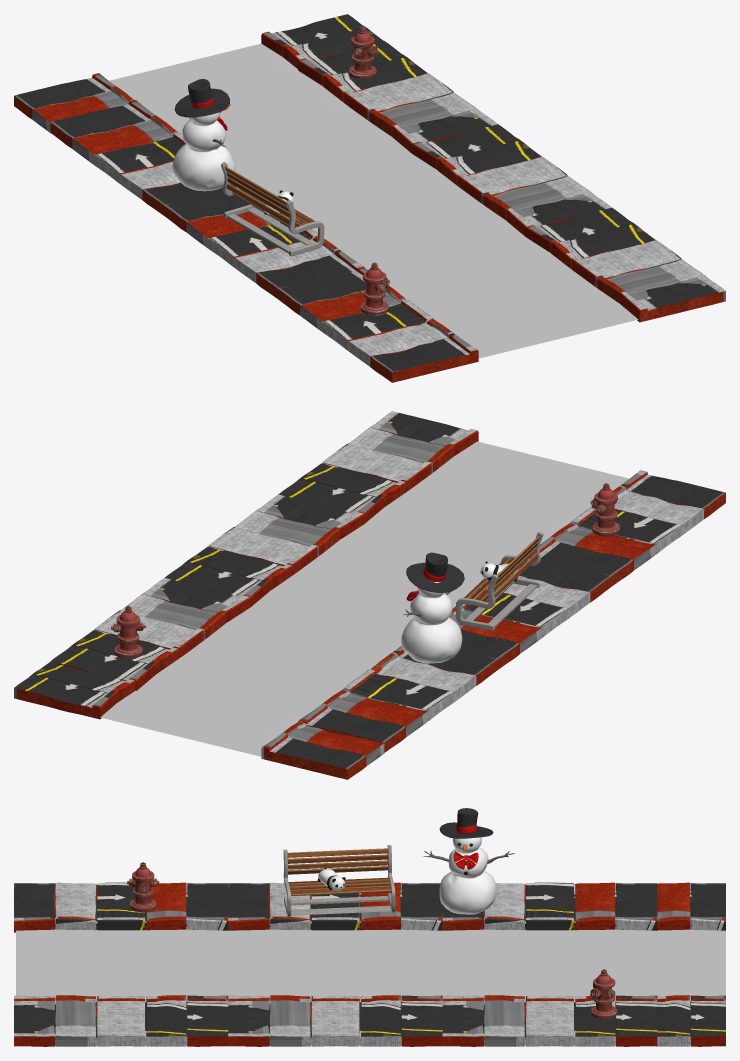
File: Road_Tex.gltf
The picture shows the model from 3 angles, top to bottom: view 1: azimuth 30°, elevation 25°; view 2: azimuth 150°, elevation 25°; view 3: azimuth 270°, elevation 25°; orthographic projection. The views are drawn at different scales.
Visible parts, largest first — view 1: Road1, Ground, Snowman1, Chair, obj1, obJ2; view 2: Road1, Ground, Snowman1, Chair, obJ2, obj1; view 3: Road1, Ground, Chair, Snowman1, obj1, obJ2, Panda1.
Part boxes in pixels (<box>): Road1: <box>14,14,725,382</box>; Ground: <box>109,43,638,358</box>; Snowman1: <box>172,79,235,191</box>; Chair: <box>221,162,324,256</box>; obj1: <box>360,262,390,315</box>; obJ2: <box>349,26,379,78</box>; Road1: <box>14,411,725,779</box>; Ground: <box>89,441,629,756</box>; Snowman1: <box>401,552,464,663</box>; Chair: <box>455,531,543,630</box>; obJ2: <box>111,605,145,658</box>; obj1: <box>590,483,620,536</box>; Road1: <box>14,882,725,1046</box>; Ground: <box>16,929,725,998</box>; Chair: <box>283,845,395,916</box>; Snowman1: <box>423,808,514,914</box>; obj1: <box>127,862,159,912</box>; obJ2: <box>590,969,617,1018</box>; Panda1: <box>317,868,345,890</box>.
Size of the model in its own units: 8.76 by 2.85 by 17.2.
